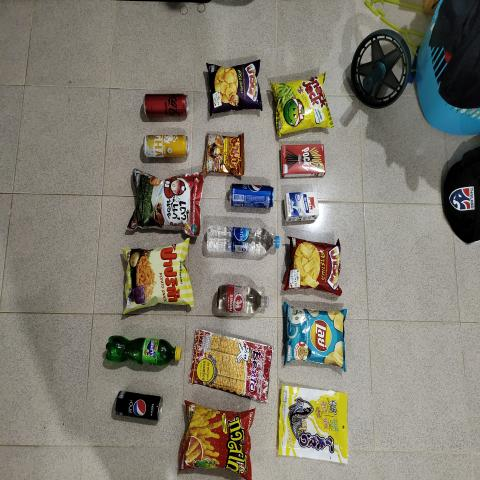bento_red: (195, 329, 271, 395)
coke_red: (142, 91, 193, 122)
crystal: (206, 220, 281, 257)
fanta_green: (104, 332, 184, 372)
lay_blue: (285, 315, 345, 362)
mama: (204, 130, 244, 173)
paprika: (122, 247, 190, 304)
party_purple: (206, 60, 262, 108)
party_red: (287, 243, 339, 286)
pepsi_black: (112, 389, 163, 425)
pepsi_blue: (226, 182, 277, 208)
pokki: (283, 146, 323, 175)
singha_soda: (213, 284, 269, 312)
singha_yellow: (142, 132, 188, 160)
snack_jack: (276, 77, 325, 136)
taokaenoi: (133, 172, 197, 230)
taro_yellow: (279, 391, 347, 451)
thai_denmark: (287, 191, 319, 222)
twisco: (182, 412, 252, 463)
